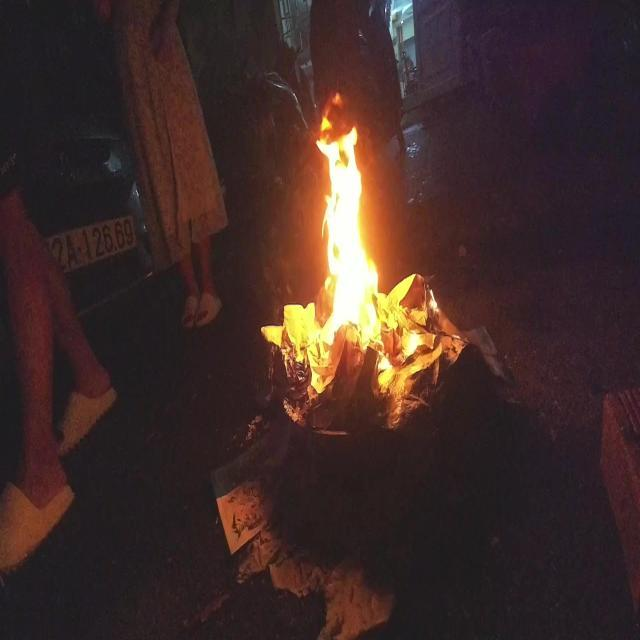Fire: (276, 96, 439, 431)
